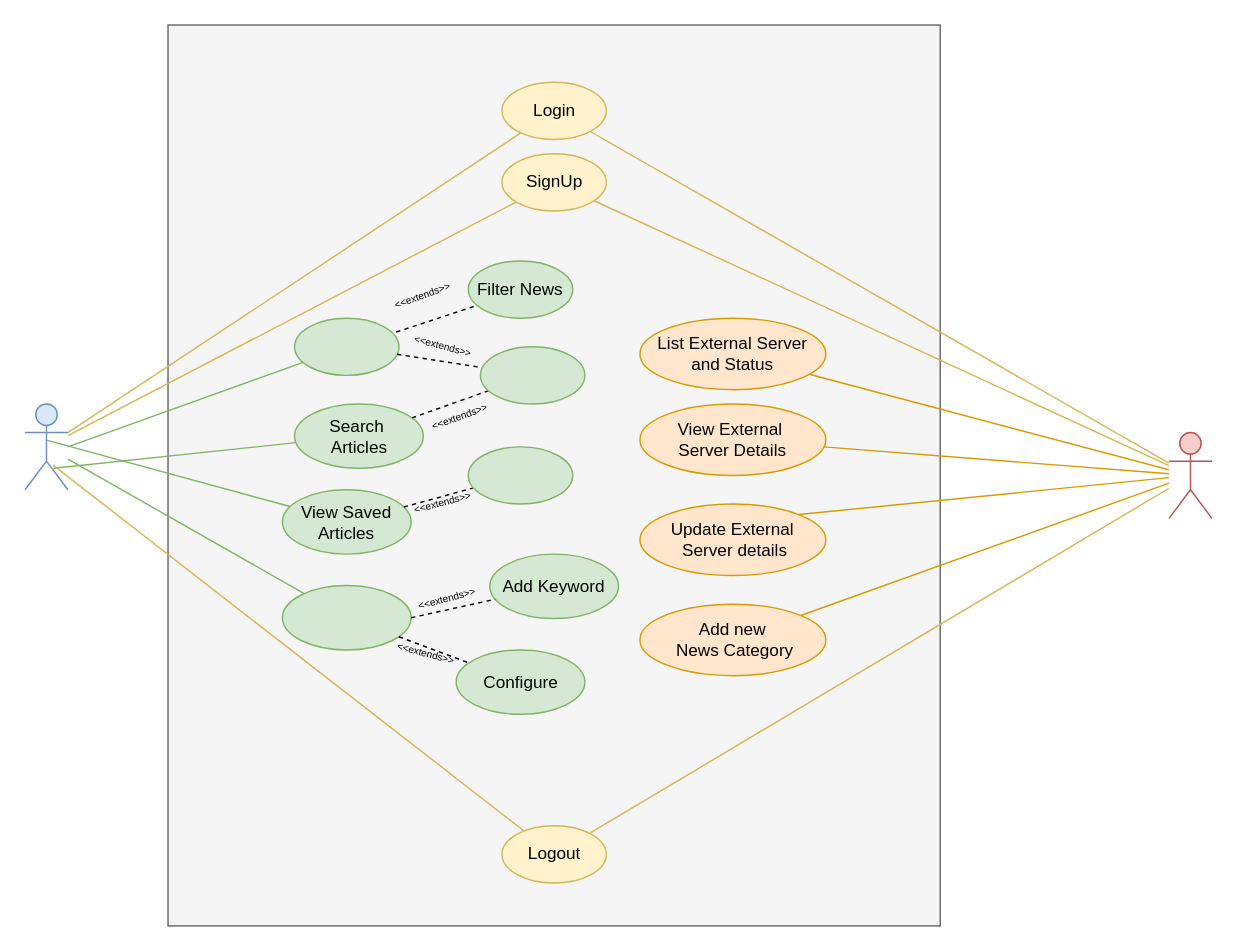
The diagram is 1240 pixels wide and 951 high, and some of its shapes have lost their labels. The centre of each missing label's shape, as x and y in pixels:
"Admin" belongs at (x=1190, y=474).
"Delete Saved" belongs at (x=520, y=474).
"Save Article" belongs at (x=532, y=374).
"See Notifications" belongs at (x=346, y=617).
"User" belongs at (x=46, y=446).
"View Headlines" belongs at (x=346, y=346).
